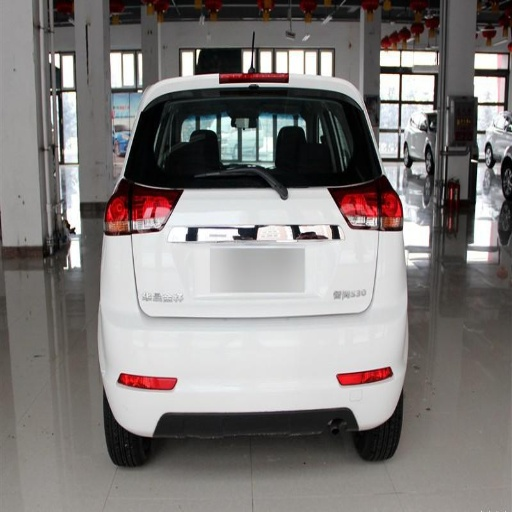back_bumper: (94, 232, 409, 438)
trunk: (107, 182, 381, 349)
